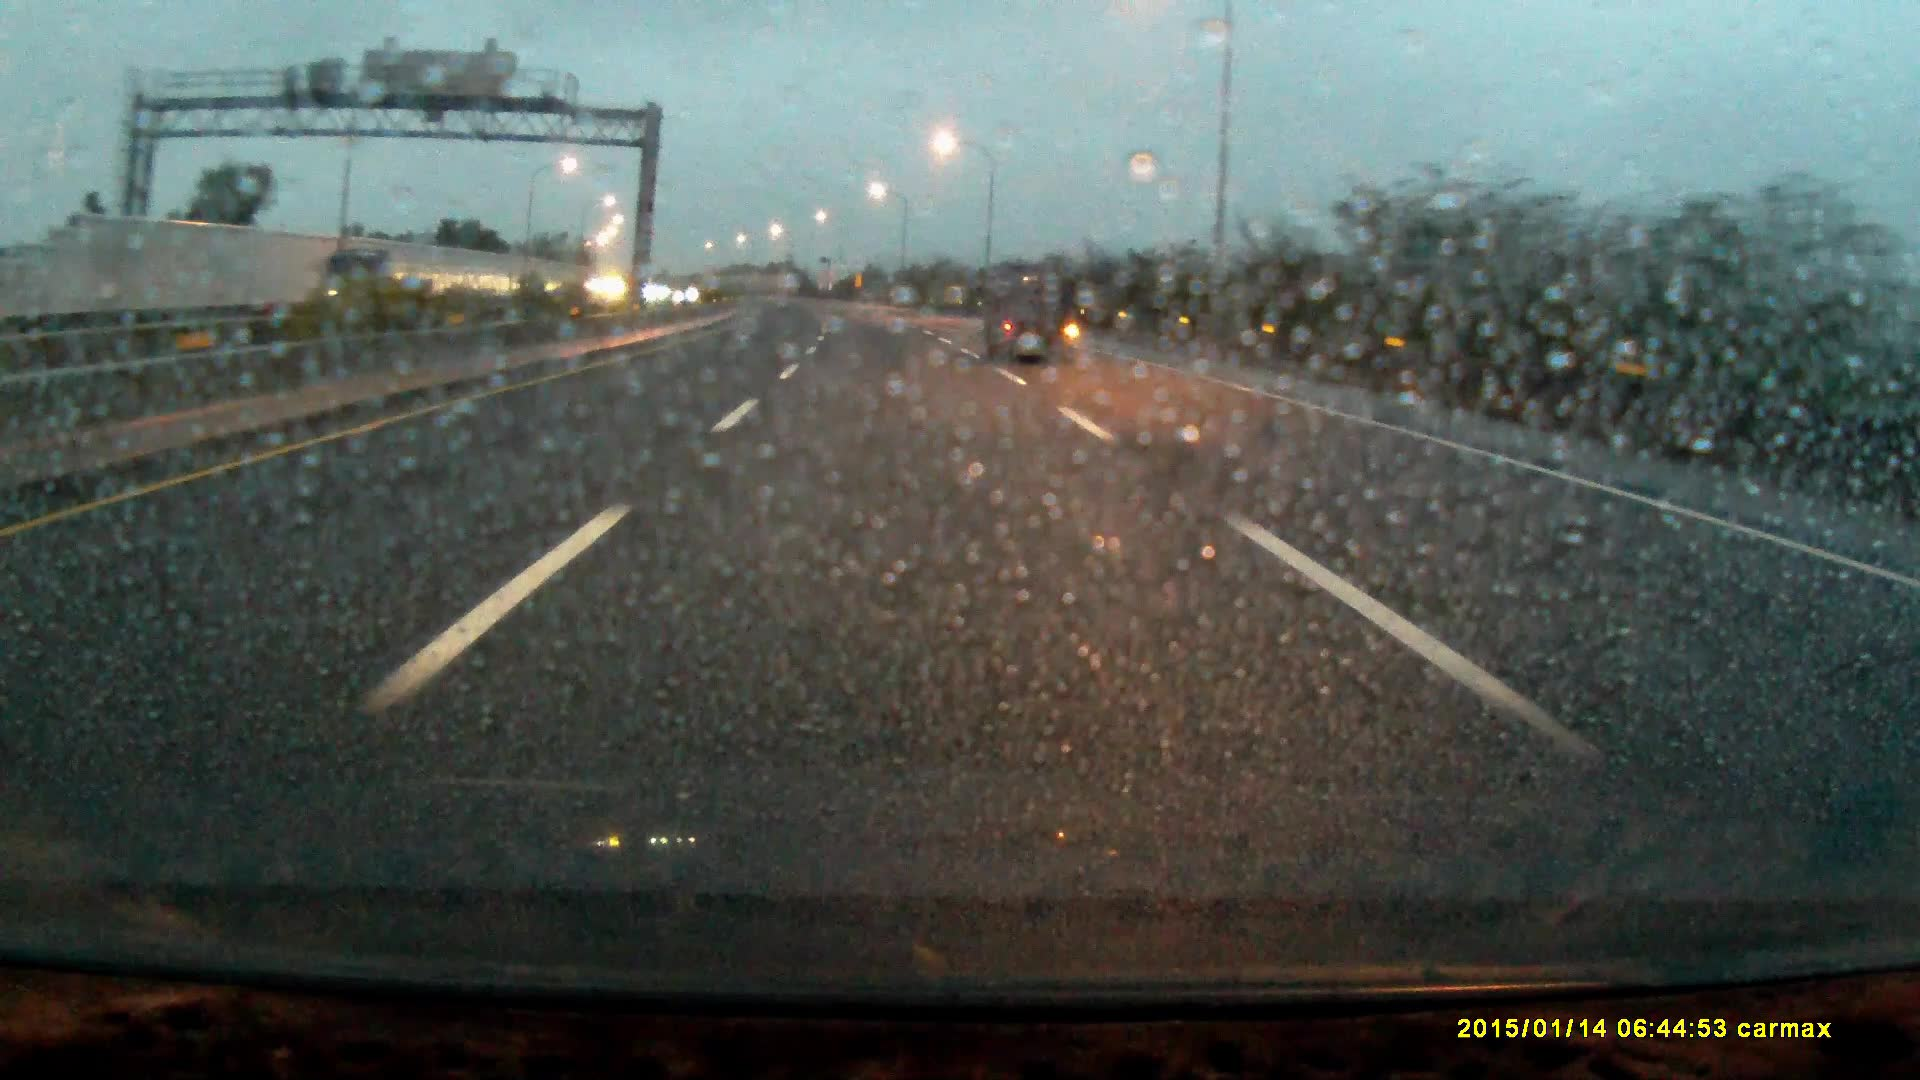vehicle: (314, 247, 440, 320), (989, 272, 1076, 367)
